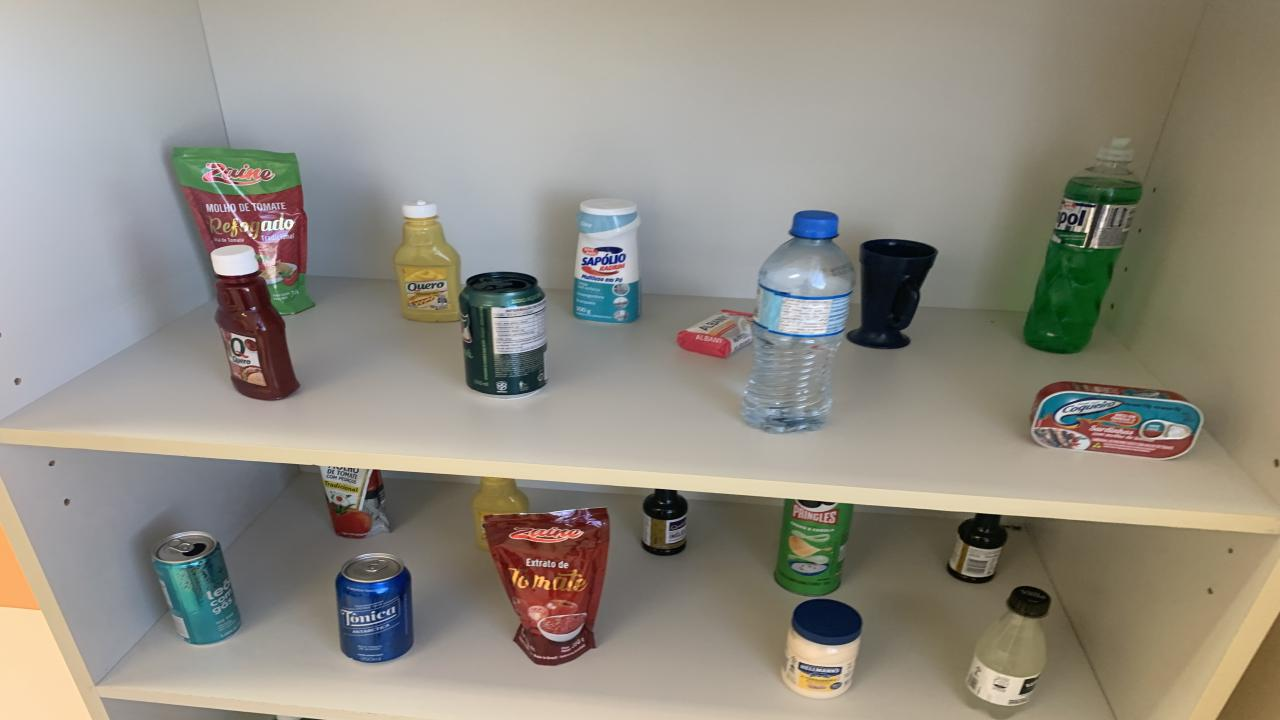Cleaner-Cleanup_Items: (572, 199, 642, 322)
Detergent-Cleanup_Items: (1022, 137, 1142, 352)
English_Sauce-Pantry_Items: (948, 514, 1008, 583), (642, 489, 688, 555)
Guarana_Can-Drinks: (460, 272, 548, 398)
Ketchup-Pantry_Items: (210, 244, 300, 399)
Mayonnaise-Pantry_Items: (782, 598, 862, 699)
Mustard-Pantry_Items: (392, 201, 460, 322), (472, 476, 530, 551)
Pringles-Snacks: (775, 499, 852, 596)
Soap-Cleanup_Items: (678, 309, 752, 356)
Soda-Drinks: (965, 587, 1050, 718)
Tea-Drinks: (152, 531, 242, 645)
Tomato_Sauce-Pantry_Items: (172, 148, 312, 313), (482, 508, 610, 666), (320, 467, 390, 538)
Tonic-Drinks: (335, 553, 412, 662)
Tuna_Can-Pantry_Items: (1030, 382, 1202, 459)
Water_Bottle-Drinks: (740, 210, 855, 433)
